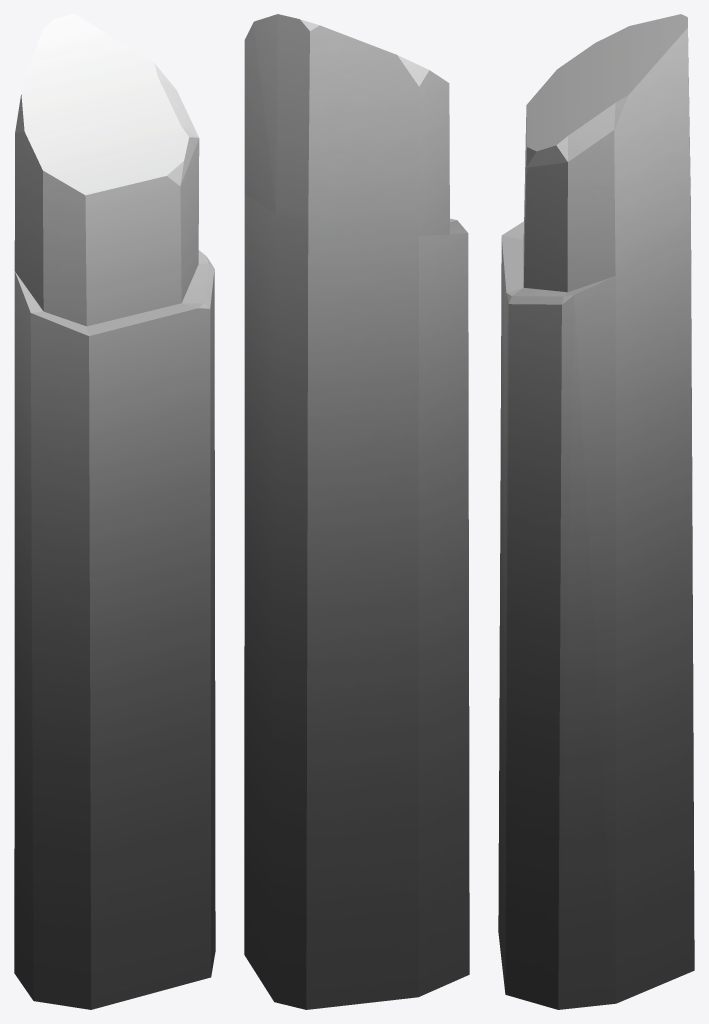
File: CrystalCube_A.fbx
3 views of the same model, side by side, from view 1: azimuth 30°, elevation 25°; view 2: azimuth 150°, elevation 25°; view 3: azimuth 270°, elevation 25° (orthographic). The views are drawn at different scales.
Parts seen in each view (by area): view 1: CrystalCube_A; view 2: CrystalCube_A; view 3: CrystalCube_A.
Part boxes in pixels (x1=…): CrystalCube_A: x1=14, y1=14, x2=215, y2=1009; CrystalCube_A: x1=244, y1=14, x2=469, y2=1009; CrystalCube_A: x1=498, y1=14, x2=694, y2=1009.
Size of the model in its own units: 59.93 by 276 by 52.06.
Materials: 1 (1 with a texture image).
